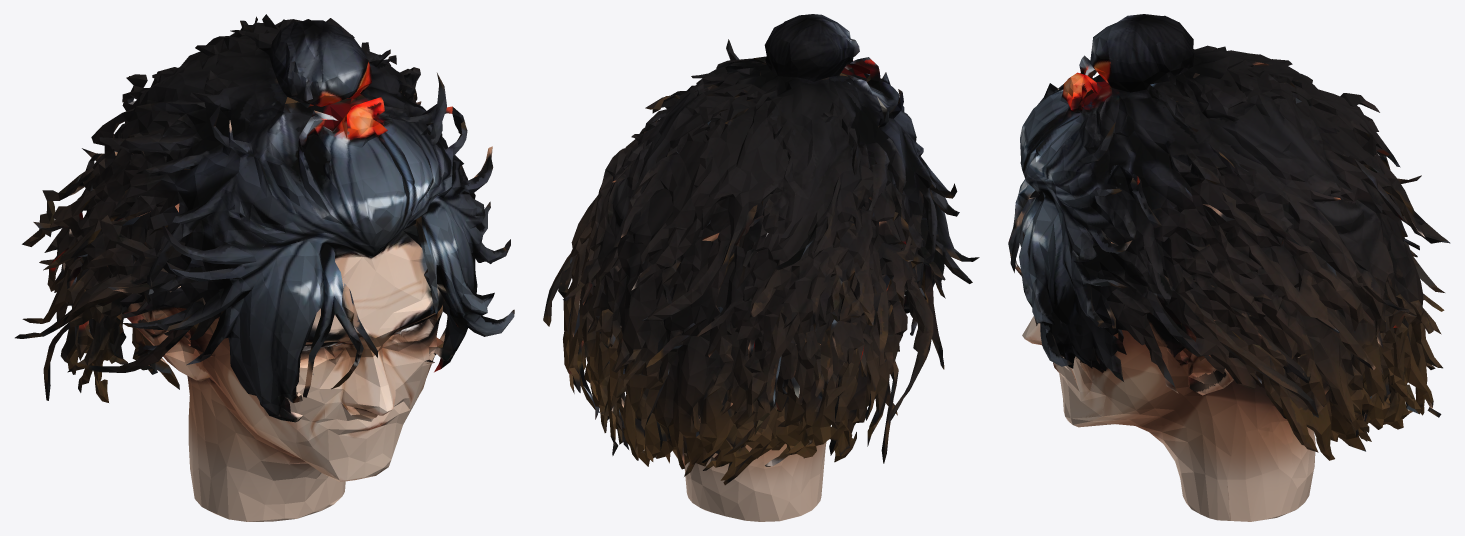
File: side_taira_repaired_atlas.glb
3 views of the same model, side by side, from view 1: azimuth 30°, elevation 25°; view 2: azimuth 150°, elevation 25°; view 3: azimuth 270°, elevation 25° (orthographic). The views are drawn at different scales.
Parts seen in each view (by area): view 1: temp_mesh.ply; view 2: temp_mesh.ply; view 3: temp_mesh.ply.
Part boxes in pixels (x1,y1,x2,y2): temp_mesh.ply: [15, 14, 514, 521]; temp_mesh.ply: [543, 14, 979, 521]; temp_mesh.ply: [1008, 14, 1450, 521].
Bounding box in the file's own units: 1.2 × 1.42 × 1.2.
Materials: 1 (1 with a texture image).
